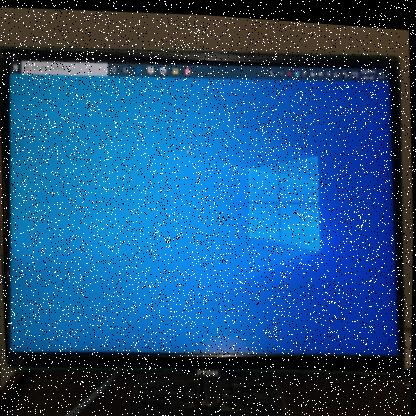Normal: (0, 38, 407, 382)
